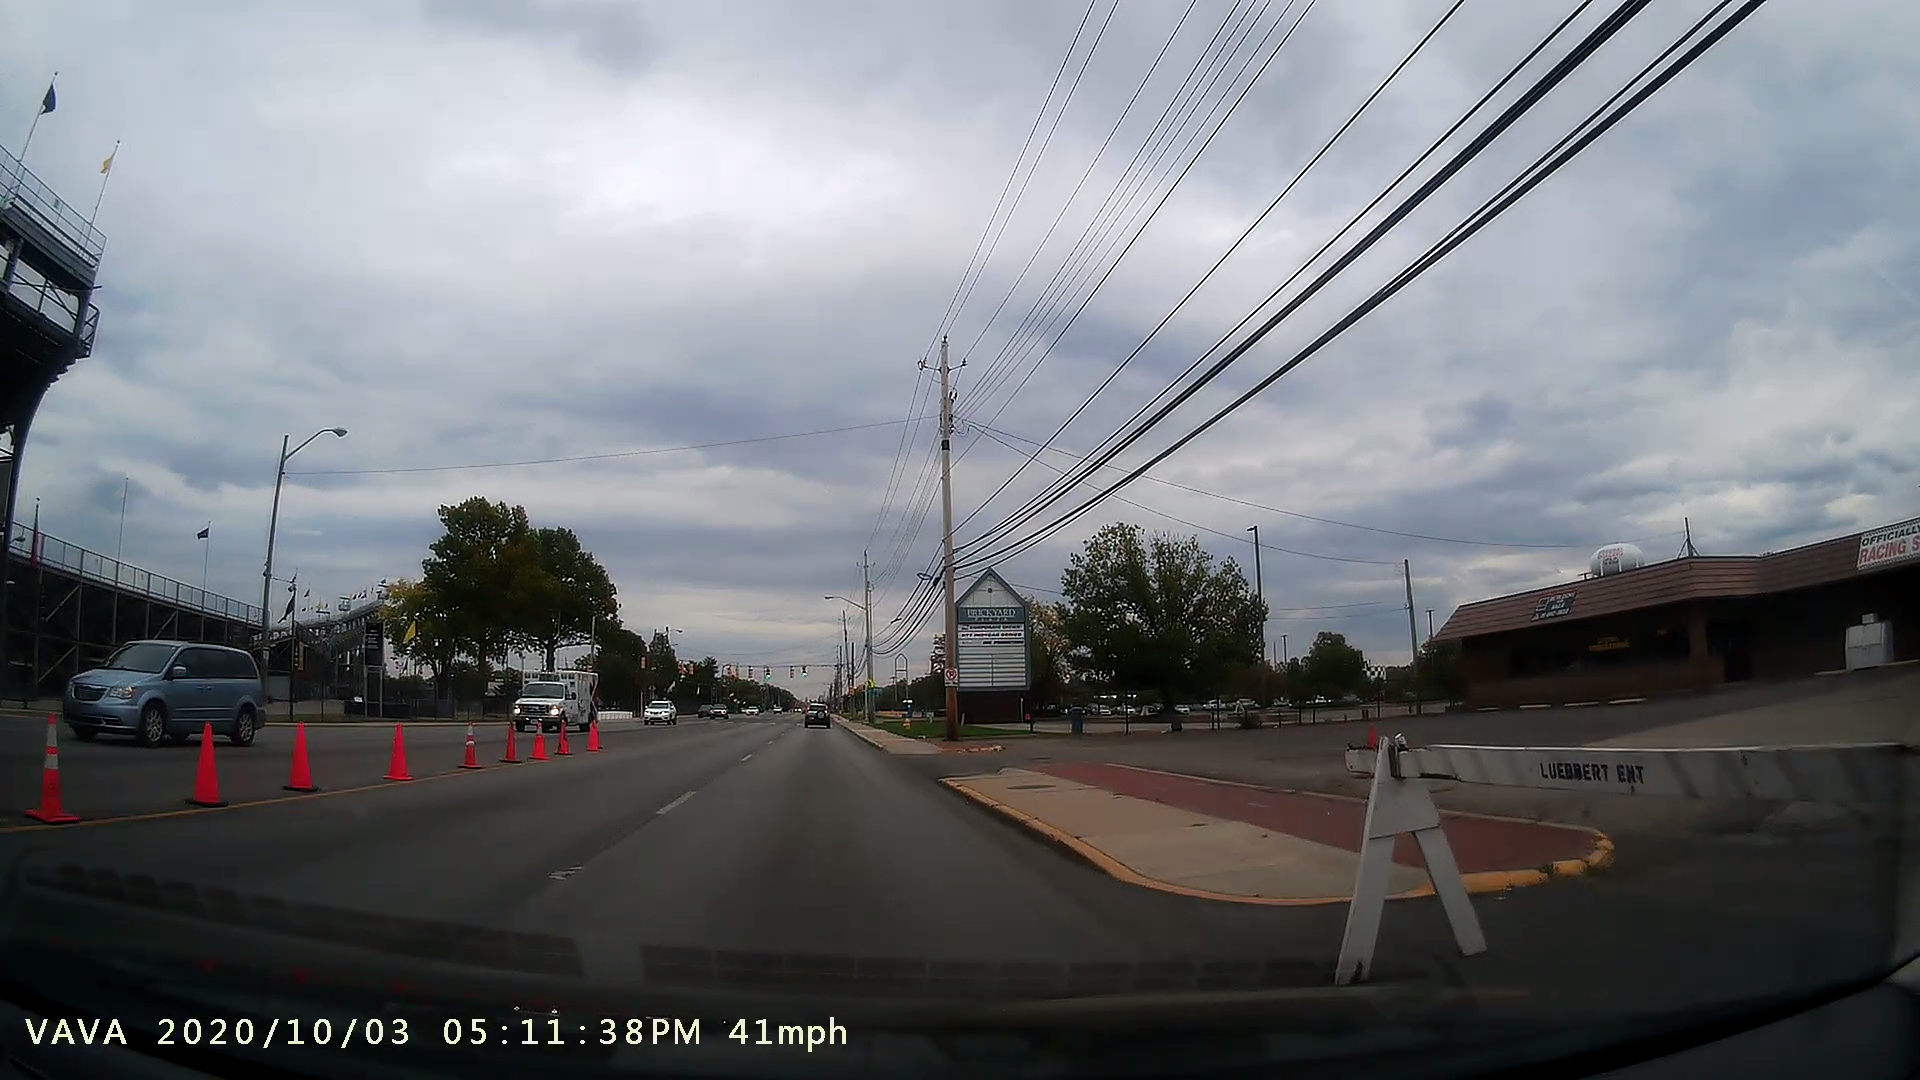const_cone: (18, 702, 104, 848), (175, 702, 244, 822), (277, 702, 327, 808), (378, 709, 433, 793)
